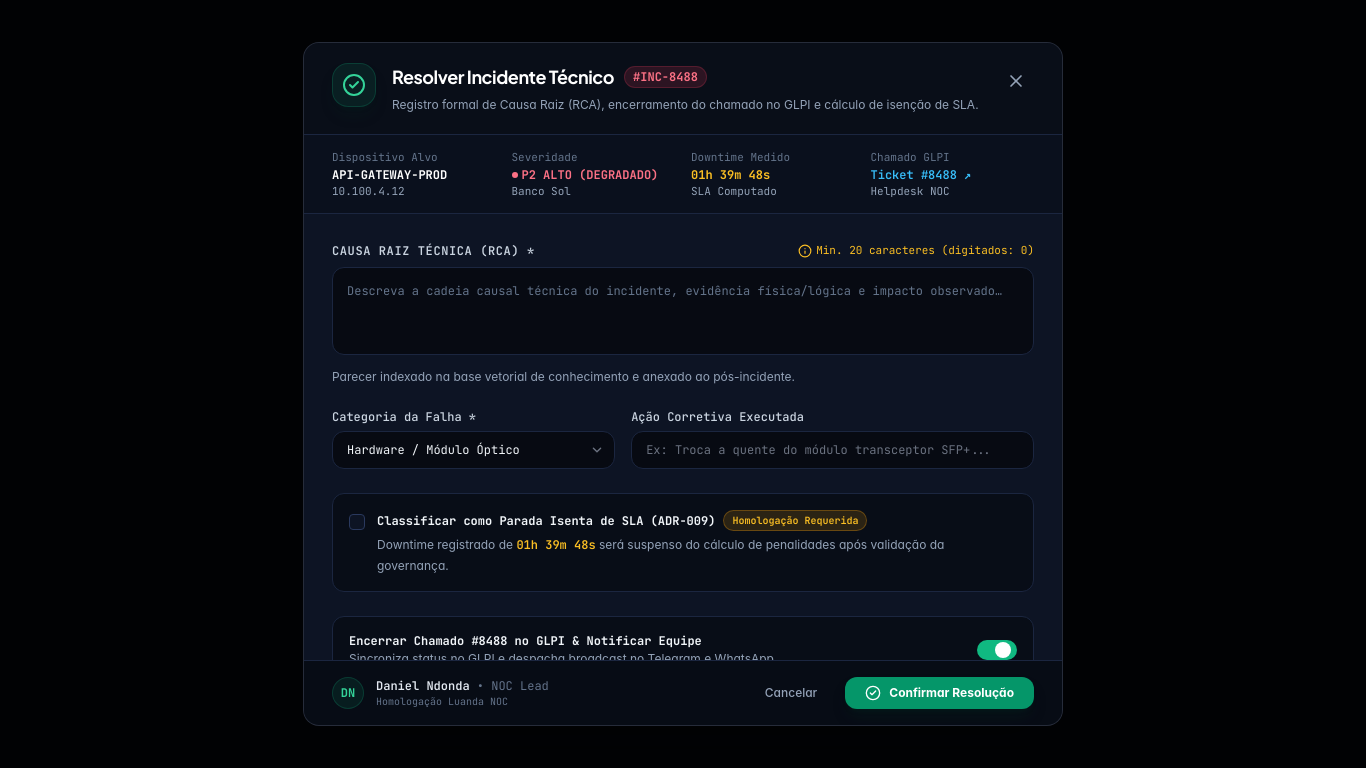
Test: Painel de Incidentes, Status GLPI e Ações Rápidas (Issue #32) › 3. Componente ResolveIncidentModal › deve rejeitar submissão com causa raiz vazia ou menor que 20 caracteres
Replace the text in the text box with test id "input-root-cause" with "Curto" at [683, 311], box [332,267,1034,355]
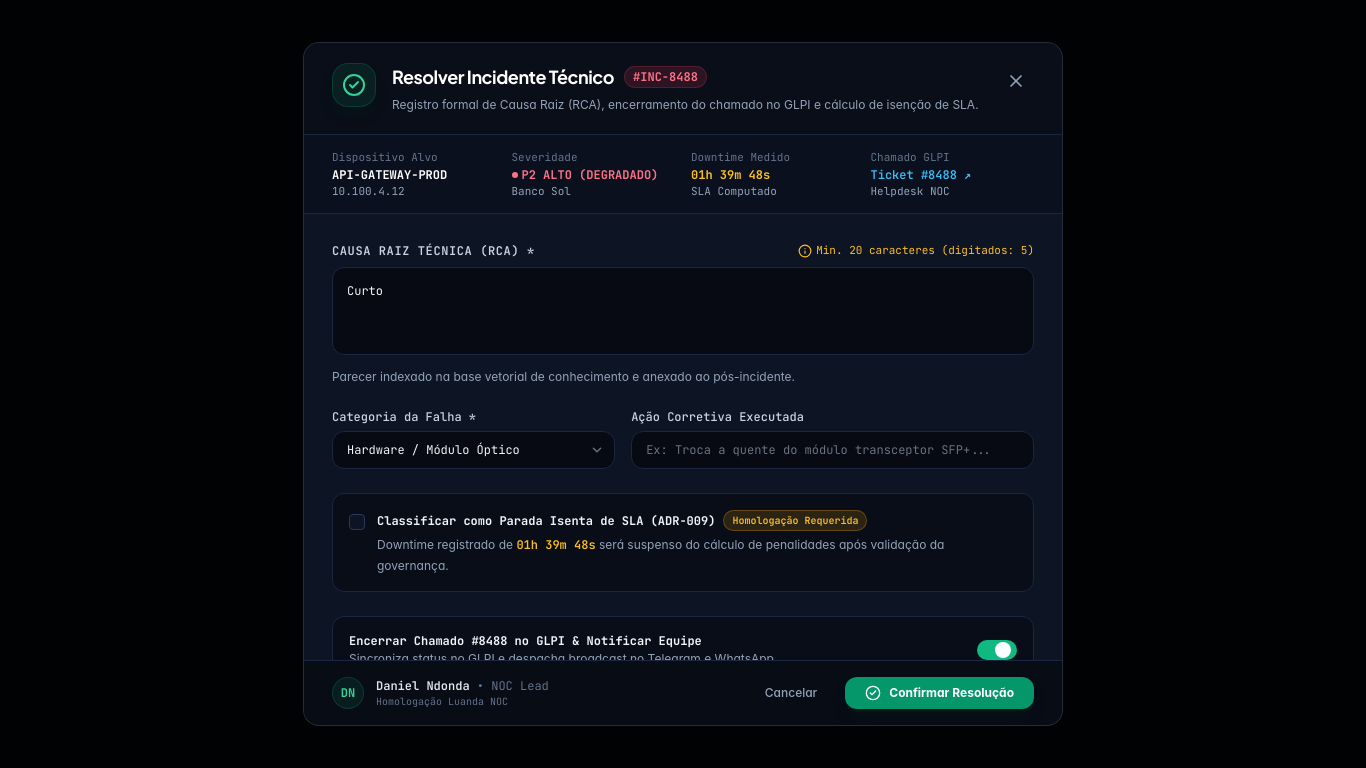
Click the button with test id "btn-confirm-resolution" at [940, 693], box [845,677,1034,709]
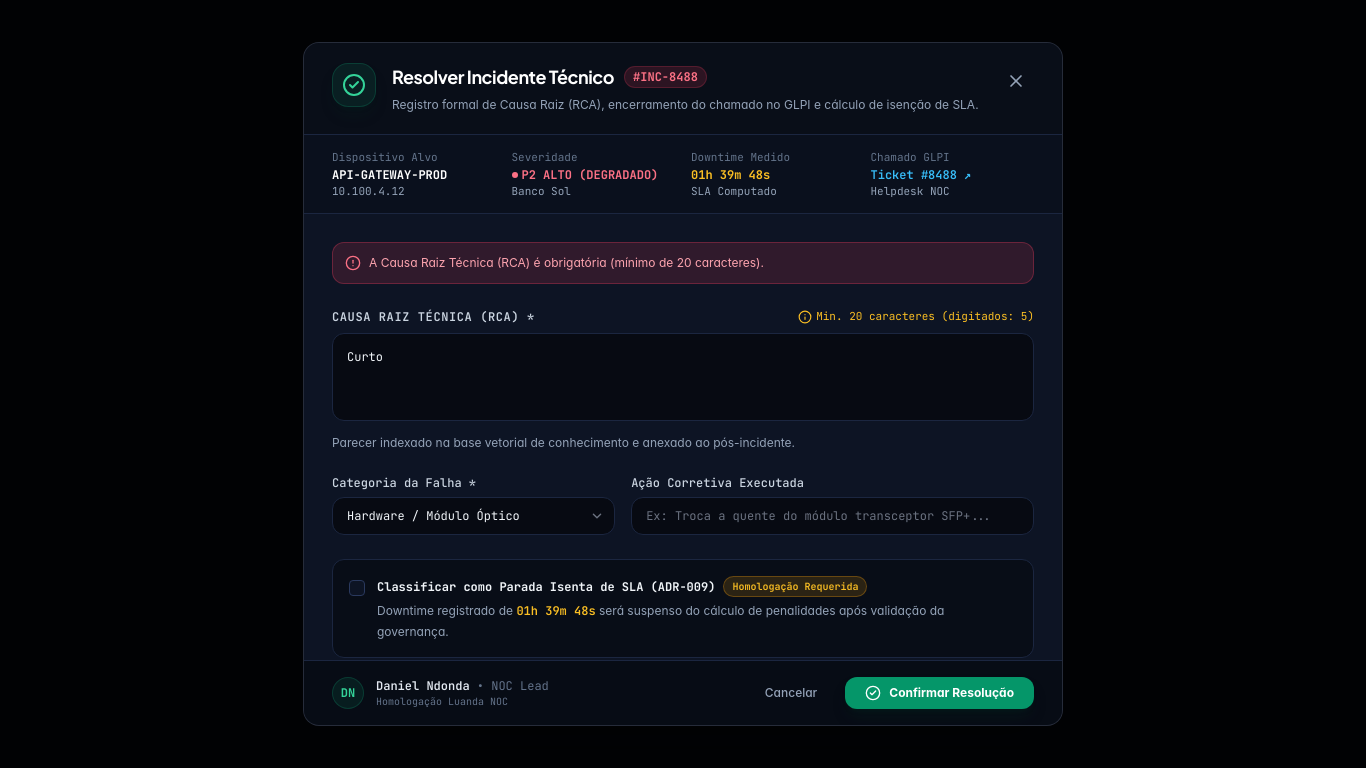
Expected: the message "A Causa Raiz Técnica (RCA) é obrigatória (mínimo de 20 caracteres)." is shown, [332,242,1034,284]
Expected: the text "mínimo de 20 caracteres" is shown, [369,255,764,270]
